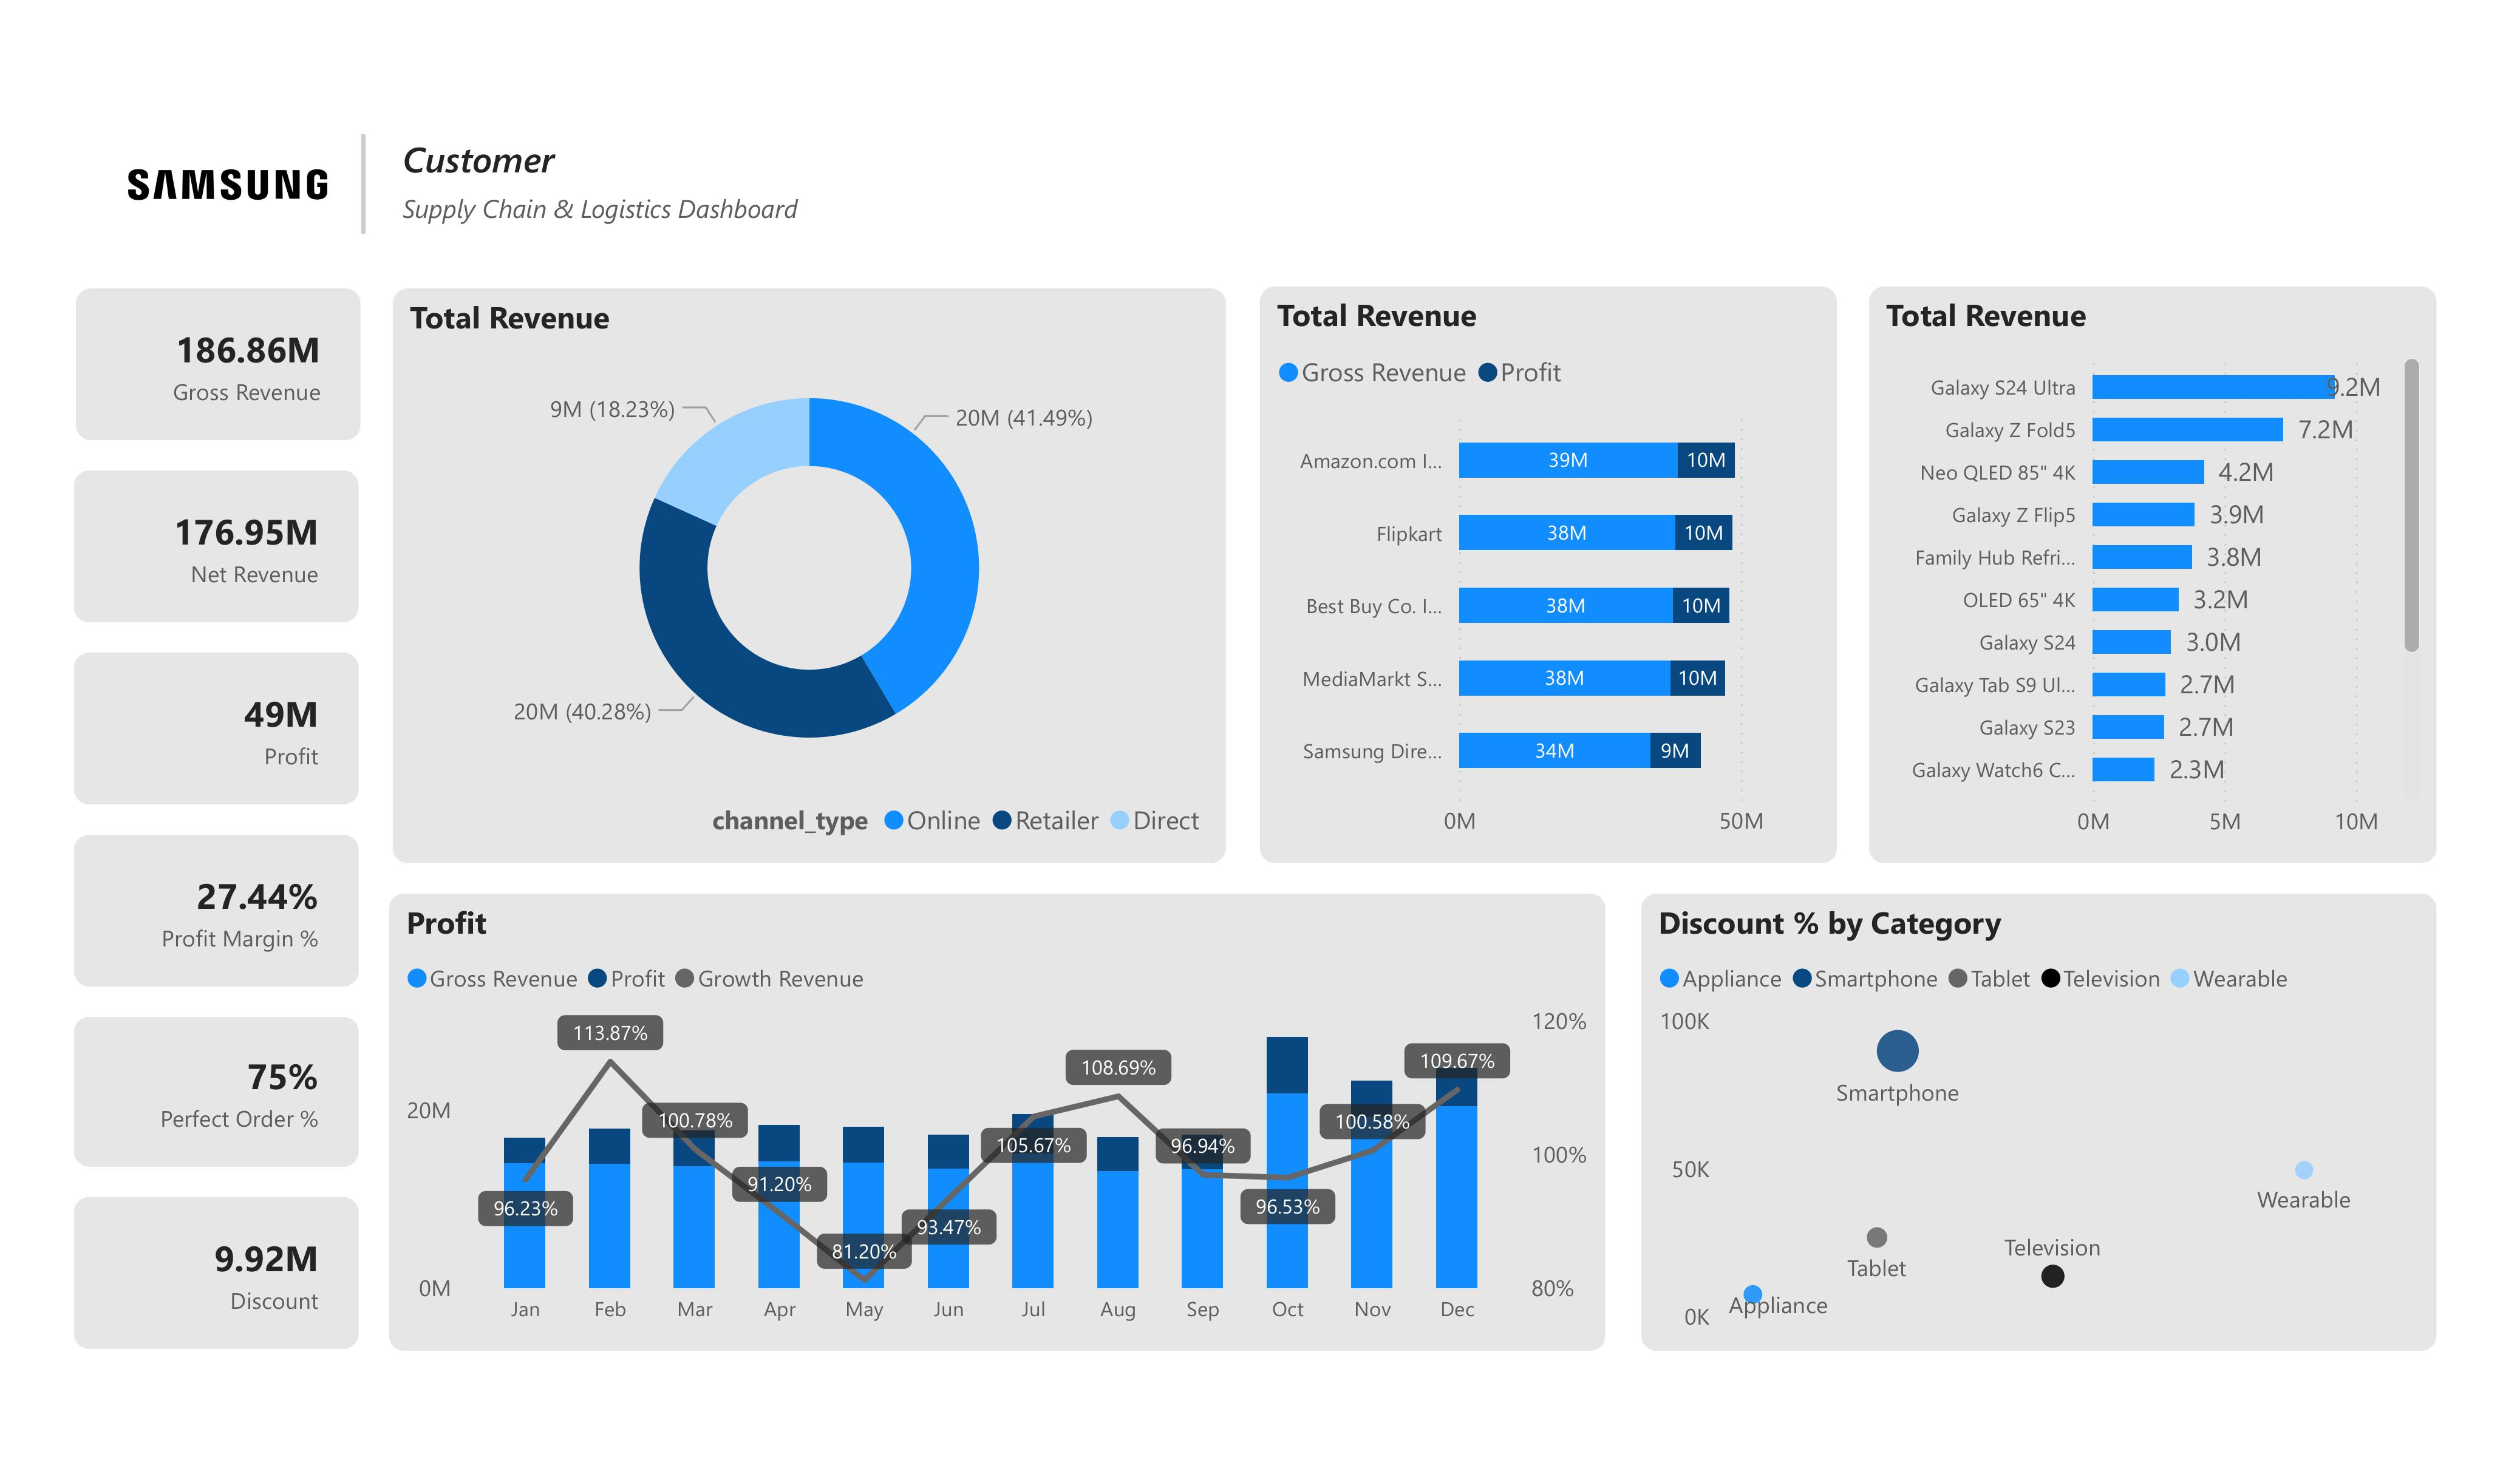

The dashboard page shown, as its layout file describes it:
{"tool":"powerbi","page":{"name":"Customers","canvas":[1280,720],"ordinal":5},"visuals":[{"type":"textbox","title":"Customer","box":[182.9,46.7,228.6,52.5],"z":0},{"type":"shape","box":[151.8,46.7,31.1,52.5],"z":1000},{"type":"image","box":[35,46.7,116.7,52.5],"z":2000},{"type":"cardVisual","fields":{"Data":["MeasuresTable.Total_Revenue"]},"box":[15.4,223.8,150,80],"z":3000},{"type":"cardVisual","fields":{"Data":["Sum(fact_sales.profit)"]},"box":[15.4,319.8,150,80],"z":4000},{"type":"cardVisual","fields":{"Data":["MeasuresTable.Profit Margin %"]},"box":[15.5,415.8,149.8,79.8],"z":5000},{"type":"cardVisual","fields":{"Data":["MeasuresTable.Perfect Order %"]},"box":[15.5,511.6,149.8,79.8],"z":6000},{"type":"cardVisual","fields":{"Data":["Sum(fact_sales.discount_amount)"]},"box":[15.5,607.4,149.8,79.8],"z":7000},{"type":"cardVisual","fields":{"Data":["Sum(fact_sales.gross_revenue)"]},"box":[15.6,127.8,150,80],"z":8000},{"type":"barChart","title":"Total Revenue","fields":{"Y":["Sum(fact_sales.gross_revenue)","Sum(fact_sales.profit)"],"Category":["dim_customer.customer_name"]},"box":[684.8,127.7,284.6,304.1],"z":9000},{"type":"donutChart","title":"Total Revenue","fields":{"Category":["dim_customer.channel_type"],"Y":["Sum(fact_sales.profit)"]},"box":[183.5,127.7,227.9,303.3],"z":10000},{"type":"barChart","title":"Total Revenue","fields":{"Y":["Sum(fact_sales.profit)"],"Category":["dim_product.product_name"]},"box":[984.2,126.8,275.8,304.1],"z":11000},{"type":"lineStackedColumnComboChart","title":"Profit","fields":{"Category":["dim_date.Month_Name_Short"],"Y":["Sum(fact_sales.gross_revenue)","Sum(fact_sales.profit)"],"Y2":["MeasureTable.Growth Revenue"]},"box":[181.1,446.7,641.1,241.1],"z":12000},{"type":"scatterChart","title":"Discount % by Category","fields":{"X":["MeasureTable.Discount %"],"Y":["Sum(fact_sales.quantity_sold)"],"Series":["dim_product.category"],"Size":["Sum(fact_sales.gross_revenue)"]},"box":[841.1,446.7,418.9,241.1],"z":13000},{"type":"barChart","title":"Total Revenue","fields":{"Category":["dim_customer.customer_name"],"Y":["Sum(fact_sales.quantity_sold)"]},"box":[426.2,127.7,243.8,304.1],"z":14000}]}

Visuals, with their boxes on the page's 1280x720 design canvas (x1, y1, x2, y2). These are canvas units, not pixel positions in the 2520x1457 screenshot, which may show the page scaled, cropped or inside an application window:
"Customer" textbox: x1=183 y1=47 x2=412 y2=99
shape: x1=152 y1=47 x2=183 y2=99
image: x1=35 y1=47 x2=152 y2=99
cardVisual - MeasuresTable.Total_Revenue: x1=15 y1=224 x2=165 y2=304
cardVisual - Sum(fact_sales.profit): x1=15 y1=320 x2=165 y2=400
cardVisual - MeasuresTable.Profit Margin %: x1=16 y1=416 x2=165 y2=496
cardVisual - MeasuresTable.Perfect Order %: x1=16 y1=512 x2=165 y2=591
cardVisual - Sum(fact_sales.discount_amount): x1=16 y1=607 x2=165 y2=687
cardVisual - Sum(fact_sales.gross_revenue): x1=16 y1=128 x2=166 y2=208
"Total Revenue" barChart: x1=685 y1=128 x2=969 y2=432
"Total Revenue" donutChart: x1=184 y1=128 x2=411 y2=431
"Total Revenue" barChart: x1=984 y1=127 x2=1260 y2=431
"Profit" lineStackedColumnComboChart: x1=181 y1=447 x2=822 y2=688
"Discount % by Category" scatterChart: x1=841 y1=447 x2=1260 y2=688
"Total Revenue" barChart: x1=426 y1=128 x2=670 y2=432
